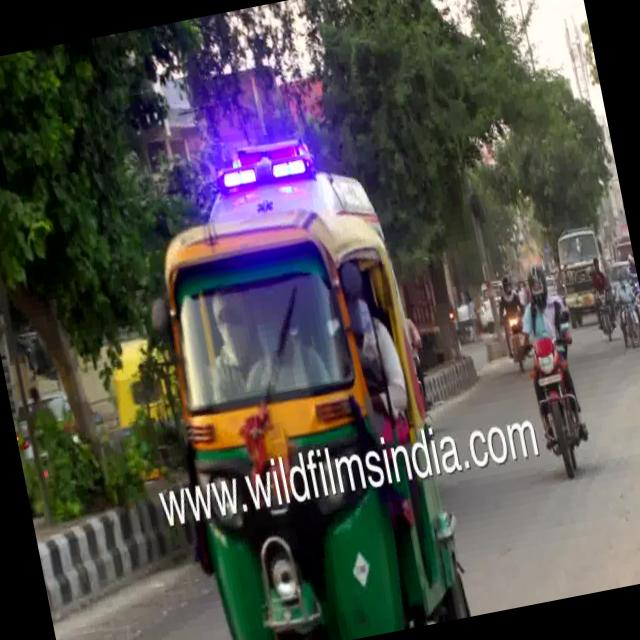ambulance: (174, 114, 396, 244)
